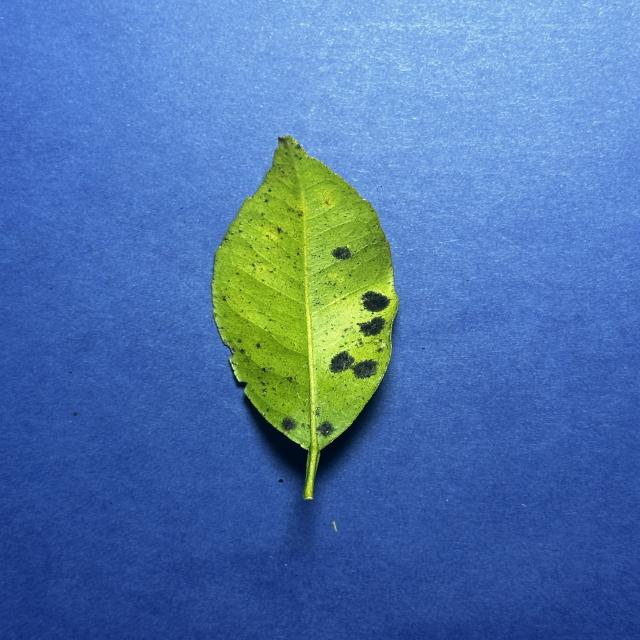sooty_mold: (212, 136, 398, 499)
